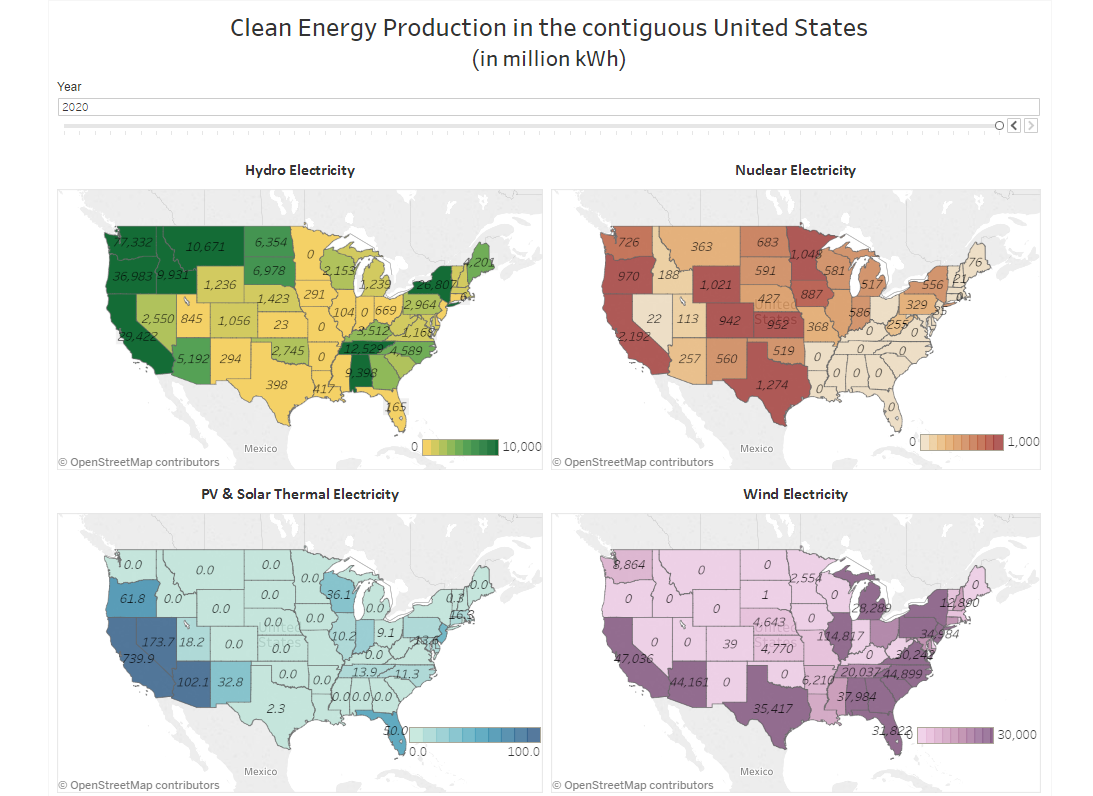

The page's visual inventory and layout, read from the dashboard file:
{"tool":"tableau","page":{"name":"Clean Energy Production in the contiguous United States","canvas":[1000,800],"ordinal":0},"visuals":[{"type":"title","box":[0,0,1000,106]},{"type":"filter","title":"Sheet 1","param":"[federated.0dw148213tfjgv1exrq9b1go6cyr].[none:Year:nk]","box":[0,106,1000,103]},{"type":"worksheet","title":"Sheet 1","mark":"Automatic","box":[0,209,498,293.5]},{"type":"worksheet","title":"Sheet 2","mark":"Automatic","box":[498,209,498,293.5]},{"type":"legend","title":"Sheet 2","param":"[federated.0dw148213tfjgv1exrq9b1go6cyr].[sum:NUETP:qk]","box":[856,429,140,100]},{"type":"legend","title":"Sheet 1","param":"[federated.0dw148213tfjgv1exrq9b1go6cyr].[sum:HYTCP:qk]","box":[358,434,140,73]},{"type":"worksheet","title":"Sheet 3","mark":"Automatic","box":[0,502.5,498,293.5]},{"type":"worksheet","title":"Sheet 4","mark":"Automatic","box":[498,502.5,498,293.5]}]}

Visuals, with their boxes on the page's 1000x800 design canvas (x1, y1, x2, y2). These are canvas units, not pixel positions in the 1093x796 screenshot, which may show the page scaled, cropped or inside an application window:
title: 0 0 1000 106
"Sheet 1" filter: 0 106 1000 209
"Sheet 1" worksheet: 0 209 498 502
"Sheet 2" worksheet: 498 209 996 502
"Sheet 2" legend: 856 429 996 529
"Sheet 1" legend: 358 434 498 507
"Sheet 3" worksheet: 0 502 498 796
"Sheet 4" worksheet: 498 502 996 796
